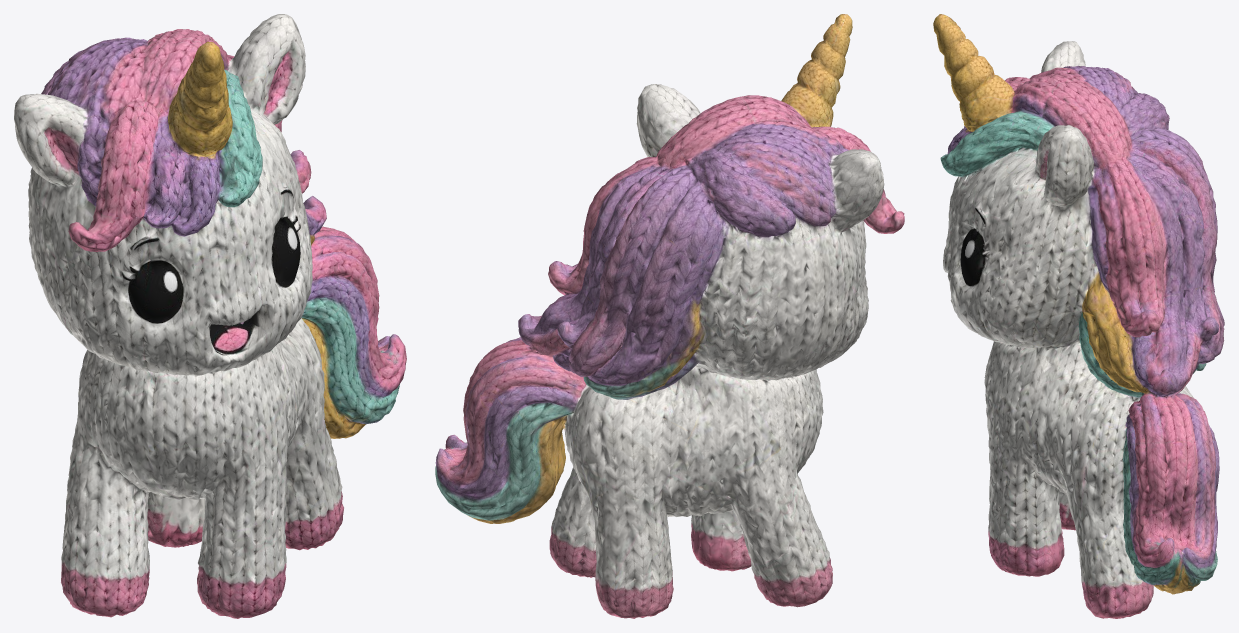
The model's file is crochet_unicorn.glb.
3 views of the same model, side by side, from view 1: azimuth 30°, elevation 25°; view 2: azimuth 150°, elevation 25°; view 3: azimuth 270°, elevation 25° (orthographic). The views are drawn at different scales.
Parts seen in each view (by area): view 1: mesh_node; view 2: mesh_node; view 3: mesh_node.
Boxes of the visible parts, left/top/right/bottom form: mesh_node: left=14, top=14, right=406, bottom=618; mesh_node: left=435, top=14, right=904, bottom=618; mesh_node: left=933, top=14, right=1224, bottom=618.
Size of the model in its own units: 1.44 by 1.9 by 0.9681.
1 material, 1 textured.
